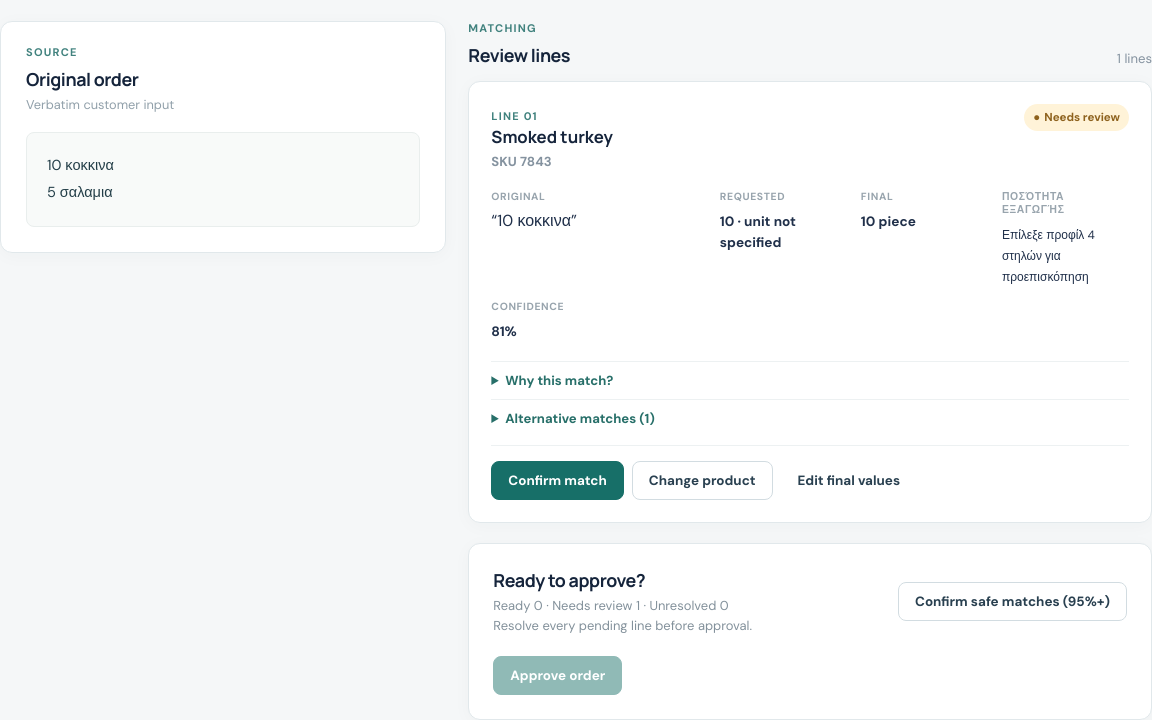
Test case: operator review › keeps the current line mounted and restores its viewport position after save
(page scrolled)
Click the button "Edit final values".
click(849, 480)  # box [780, 461, 917, 500]
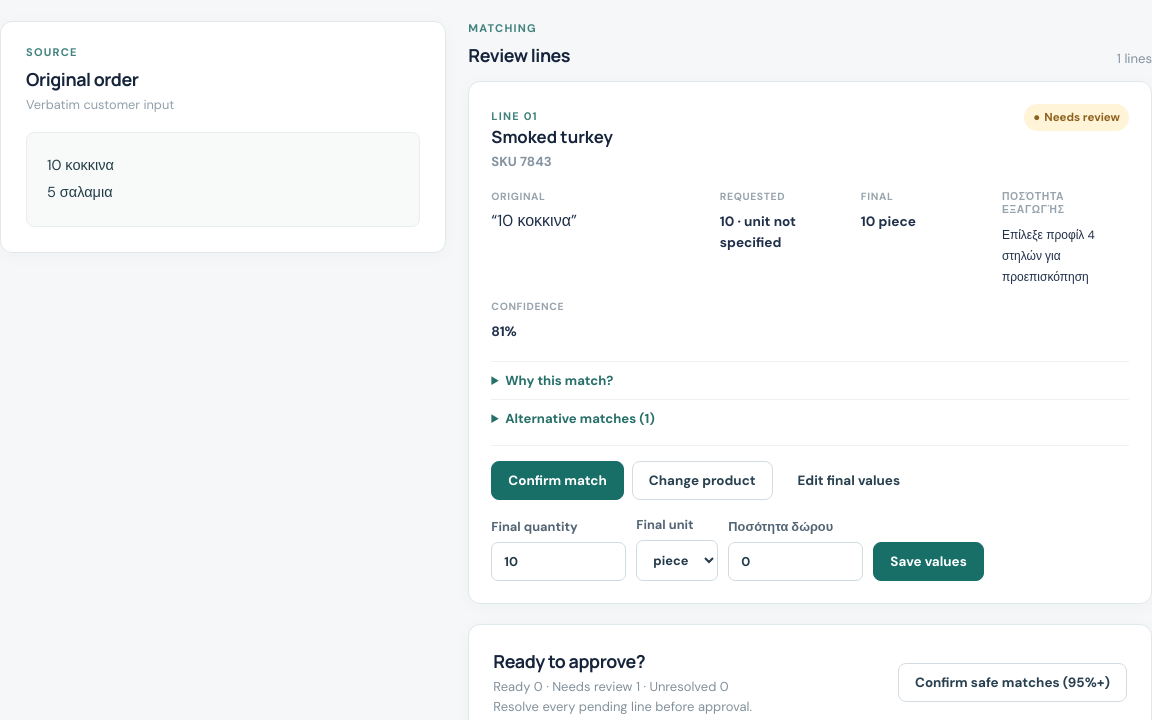
Replace the text in the number field labelled "Final quantity" with "20" at (559, 561), box [491, 542, 626, 581]
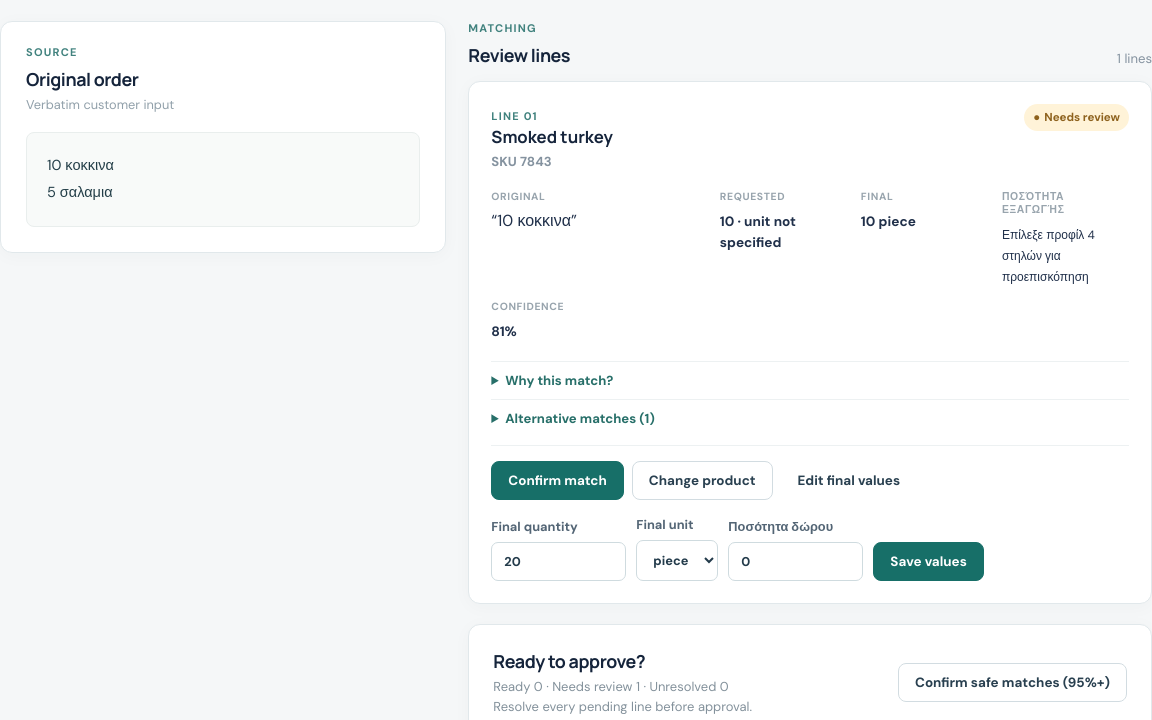
Click the button "Save values".
click(929, 561)  # box [873, 542, 984, 581]
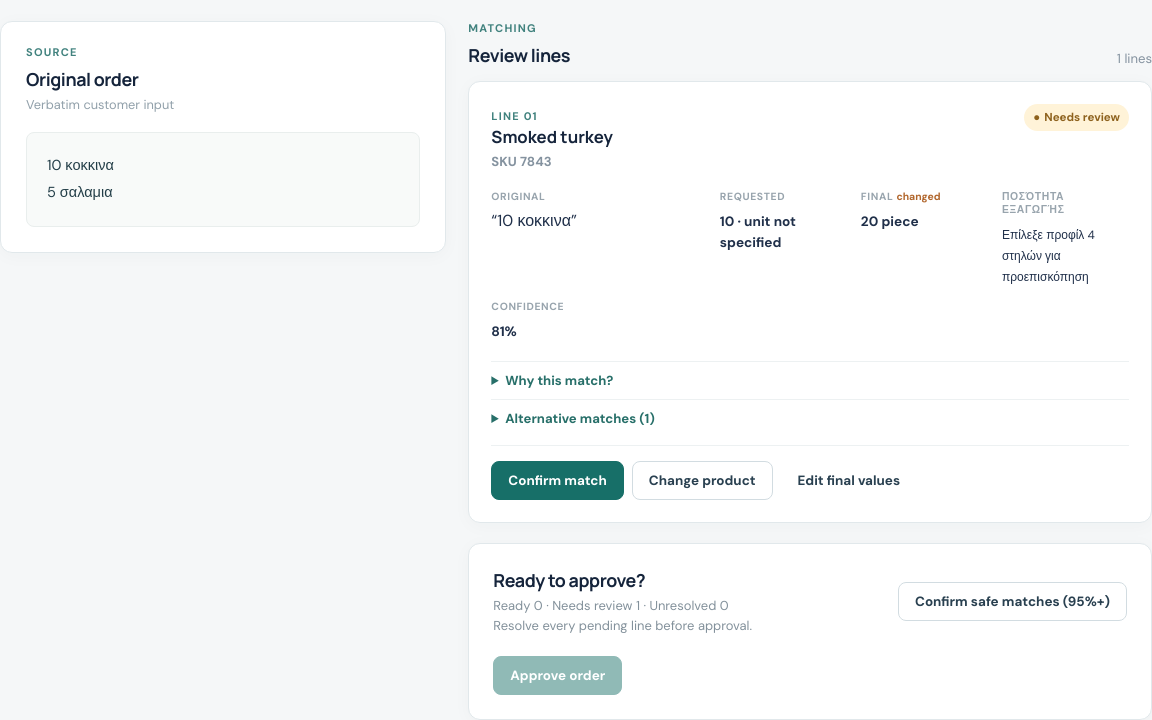
Expected: the element that starts with "LINE" shows "20 piece", [468, 81, 1151, 523]
